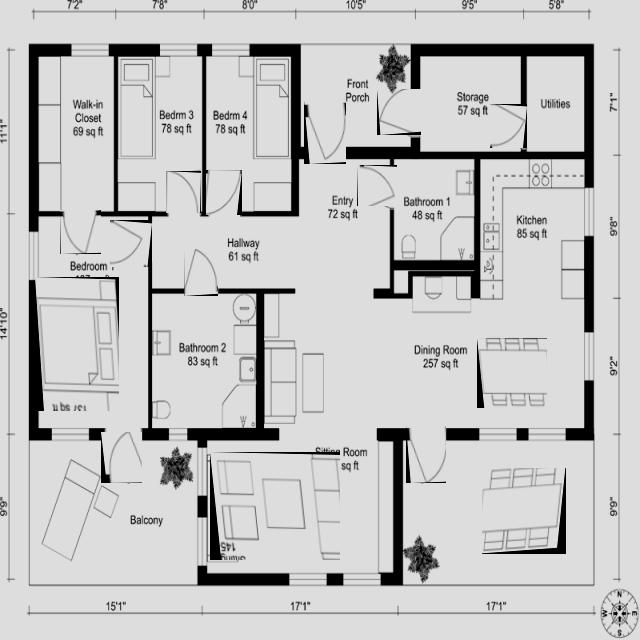bed: (35, 277, 119, 411)
door: (304, 100, 346, 164), (406, 425, 446, 483), (101, 432, 142, 483), (377, 89, 421, 135), (110, 220, 152, 267), (60, 210, 101, 254), (357, 165, 397, 206), (184, 248, 218, 296), (490, 104, 527, 148), (206, 170, 242, 215), (166, 171, 201, 213)
sofa: (210, 452, 340, 560)
table: (482, 468, 566, 554), (477, 338, 547, 408)
